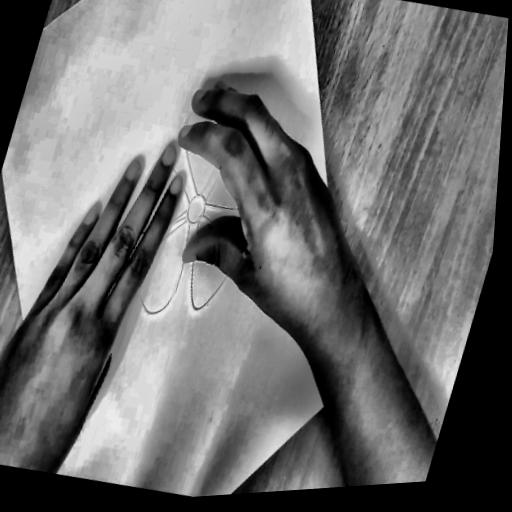flower: (0, 56, 360, 423)
top_right: (337, 378, 351, 396)
